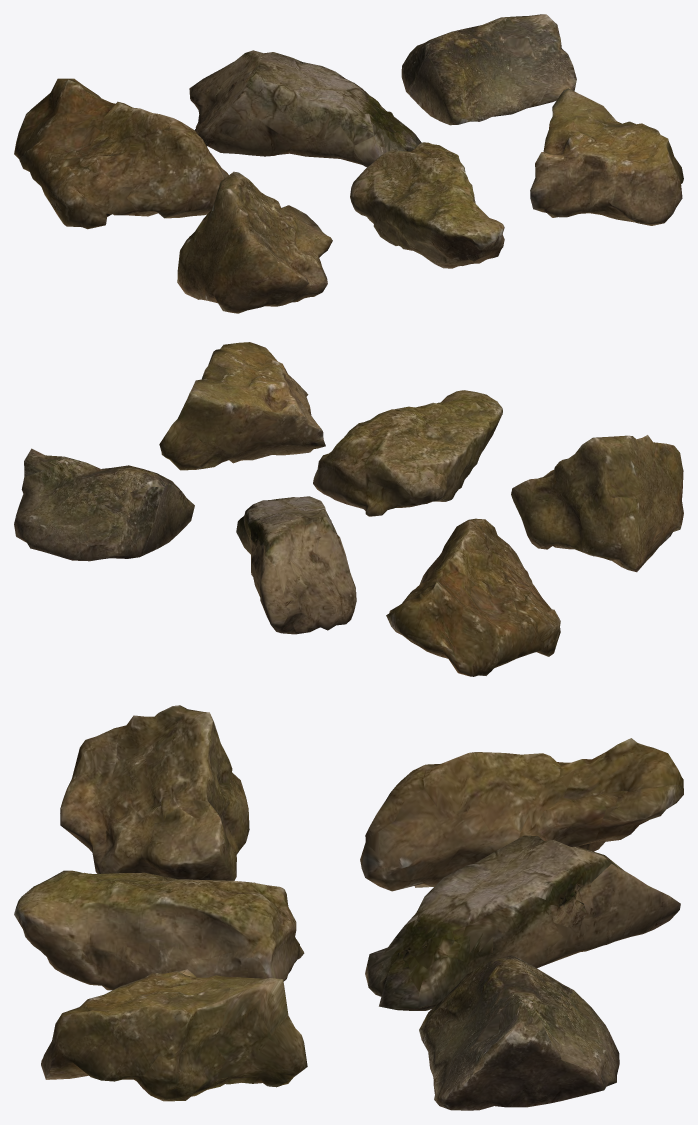
File: rocks_low_lod.gltf
3 views of the same model, one above another, from view 1: azimuth 30°, elevation 25°; view 2: azimuth 150°, elevation 25°; view 3: azimuth 270°, elevation 25° (orthographic). The views are drawn at different scales.
Visible parts, largest first — view 1: rock_moss_set_01_rock01, rock_moss_set_01_rock02, rock_moss_set_01_rock06, rock_moss_set_01_rock04, rock_moss_set_01_rock03, rock_moss_set_01_rock05; view 2: rock_moss_set_01_rock04, rock_moss_set_01_rock01, rock_moss_set_01_rock05, rock_moss_set_01_rock03, rock_moss_set_01_rock06, rock_moss_set_01_rock02; view 3: rock_moss_set_01_rock01, rock_moss_set_01_rock02, rock_moss_set_01_rock05, rock_moss_set_01_rock04, rock_moss_set_01_rock06, rock_moss_set_01_rock03.
Part boxes in pixels (box(x1,y1,x2,y2)): rock_moss_set_01_rock01: box(14, 78, 228, 229); rock_moss_set_01_rock02: box(189, 50, 421, 167); rock_moss_set_01_rock06: box(530, 88, 683, 225); rock_moss_set_01_rock04: box(177, 171, 332, 313); rock_moss_set_01_rock03: box(401, 14, 576, 125); rock_moss_set_01_rock05: box(350, 142, 504, 268); rock_moss_set_01_rock04: box(511, 435, 683, 572); rock_moss_set_01_rock01: box(386, 518, 560, 676); rock_moss_set_01_rock05: box(313, 390, 502, 516); rock_moss_set_01_rock03: box(14, 448, 194, 561); rock_moss_set_01_rock06: box(159, 342, 325, 470); rock_moss_set_01_rock02: box(236, 496, 356, 634); rock_moss_set_01_rock01: box(360, 738, 683, 891); rock_moss_set_01_rock02: box(365, 835, 680, 1010); rock_moss_set_01_rock05: box(14, 870, 304, 990); rock_moss_set_01_rock04: box(60, 705, 249, 880); rock_moss_set_01_rock06: box(41, 969, 307, 1101); rock_moss_set_01_rock03: box(419, 955, 619, 1110).
Bounding box in the file's own units: 7.99 × 1.77 × 6.94.
1 material, 1 textured.
